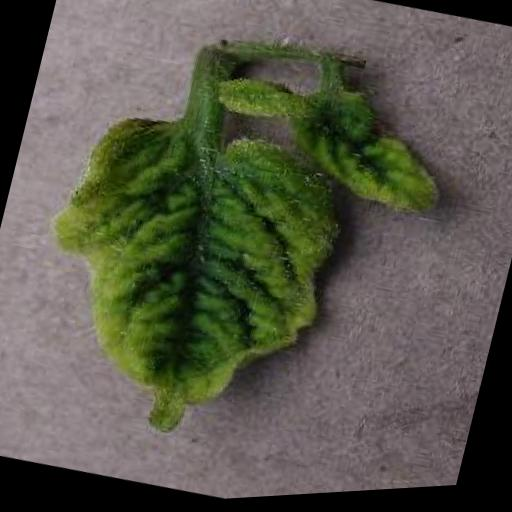Yellow Leaf Curl Virus: (8, 86, 362, 469), (190, 44, 486, 251)
